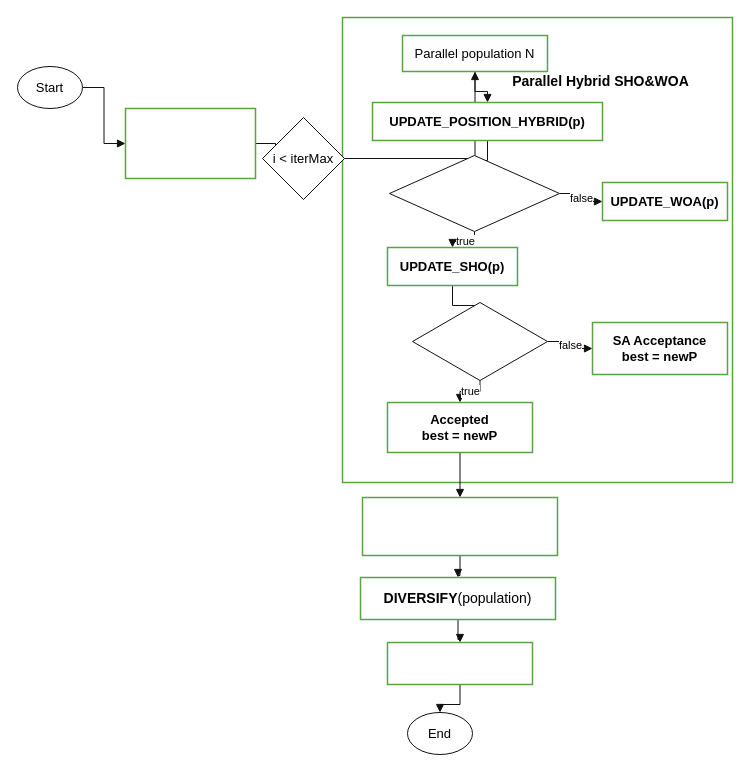
This 751x773 diagram has some shape labels left out. Here are the shapes that lost their labels. From the top down, the centre of each, then its label:
At pixel 190 143: "Generate initial population using Alg_2".
At pixel 474 193: "check pHybrid?".
At pixel 480 341: "check newP?".
At pixel 459 526: "25% iterMax LocalSearchCombined(best)".
At pixel 459 663: "bestSolution".
